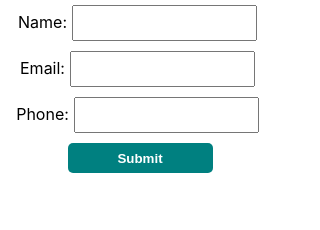
it: Profile component › correct name, correct email, wrong phone
Type "Martin" into the field labelled "Name:" at [164, 23], box [72,5,257,41]
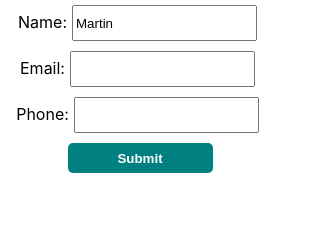
Type "@@@@@@@@dhsjdhjhds" into the field labelled "Email:" at [162, 69], box [70,51,255,87]
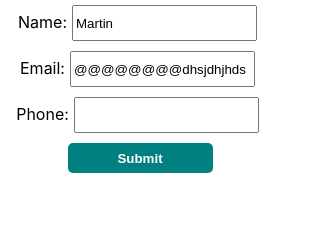
Type "123456789078787" into the field labelled "Phone:" at [166, 115], box [74,97,259,133]
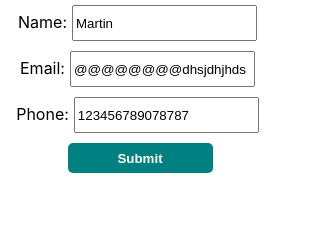
Click the button "Submit" at [140, 158], box [68,143,212,173]
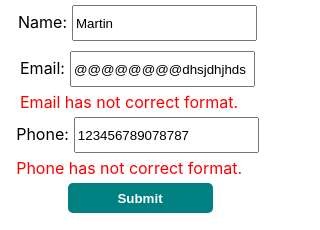
Expected: the text "Phone has not correct format." is shown, [16,158,242,178]
